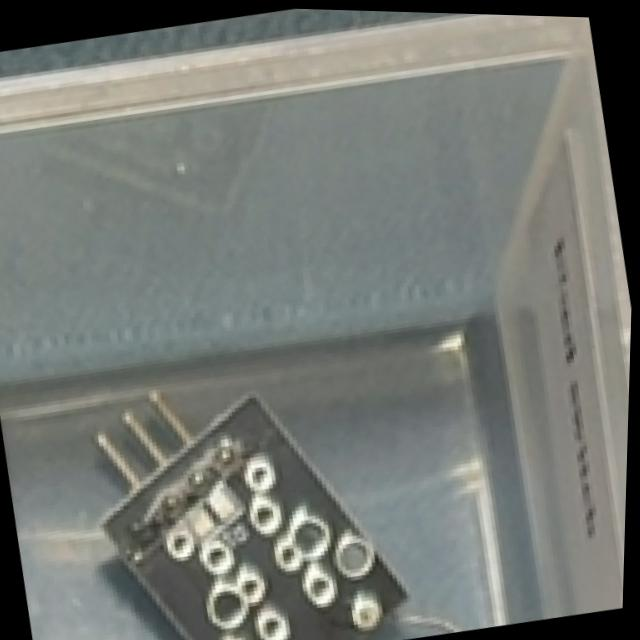Reed Switch: (69, 344, 428, 640)
